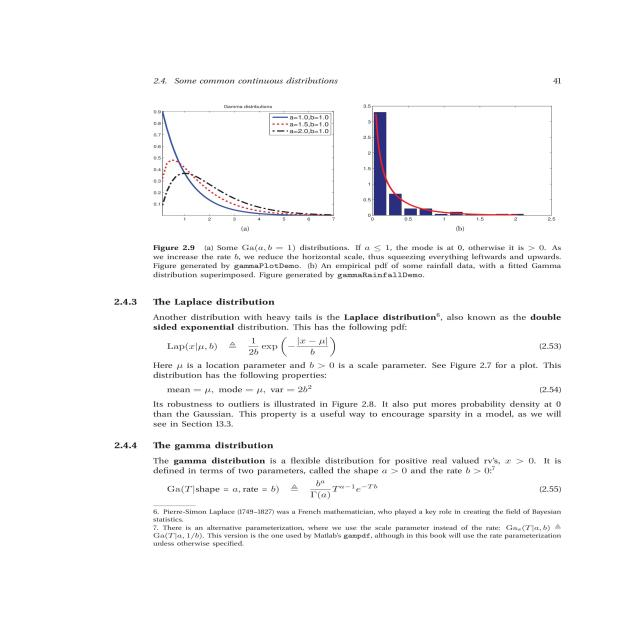diagram: (129, 60, 607, 238)
